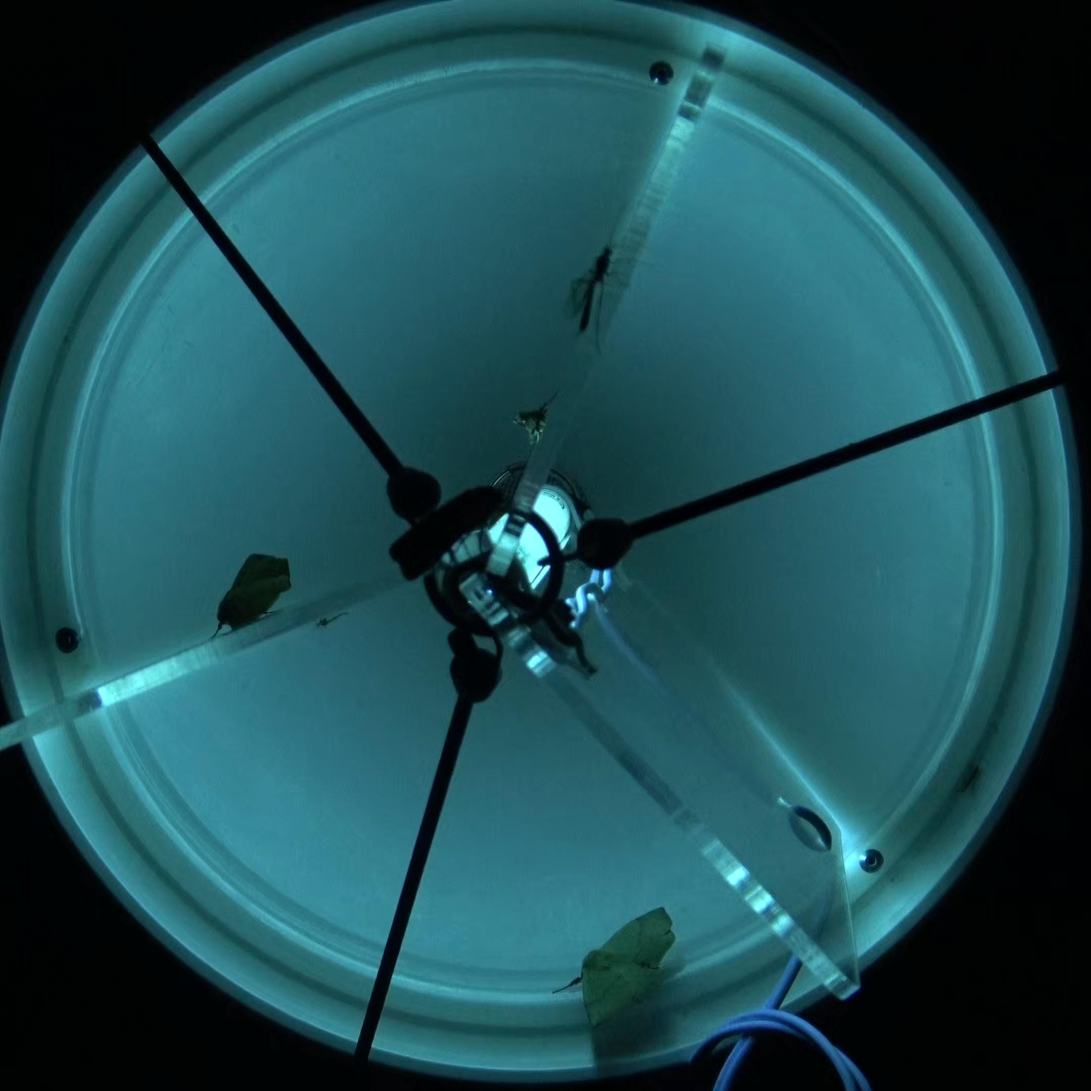bogong: (386, 482, 507, 584)
hymenoptera: (560, 219, 658, 359)
moth_na: (550, 904, 677, 1034), (208, 552, 295, 642), (510, 386, 563, 449)
objects: (315, 610, 348, 629)
